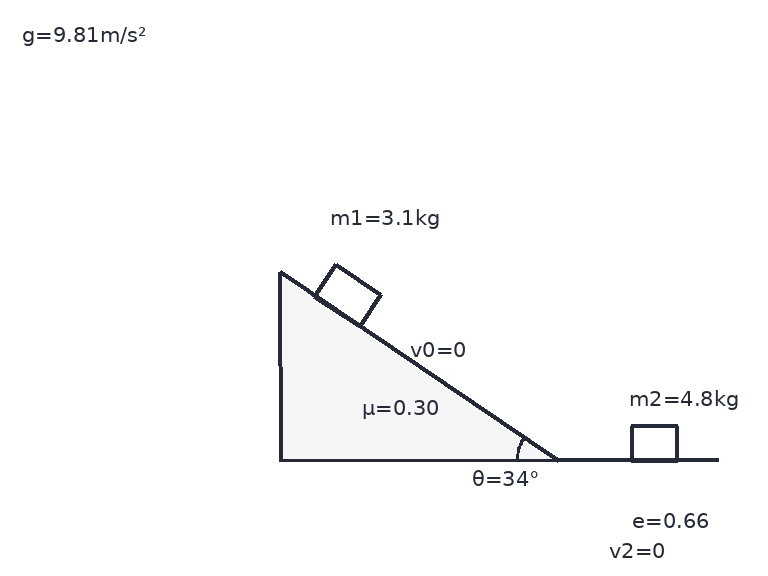block: (313, 262, 383, 328), (629, 424, 679, 462)
ramp: (277, 271, 559, 462)
